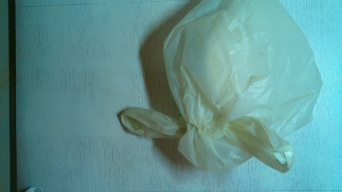f: (156, 1, 327, 176)
